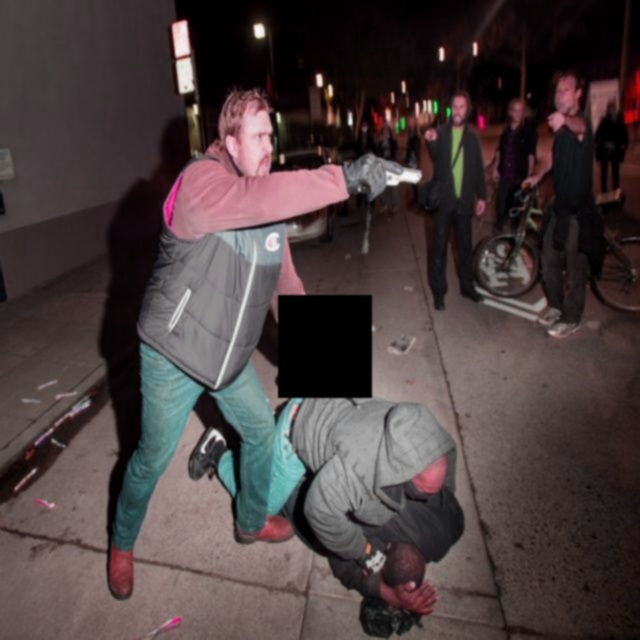gun: (346, 132, 427, 218)
